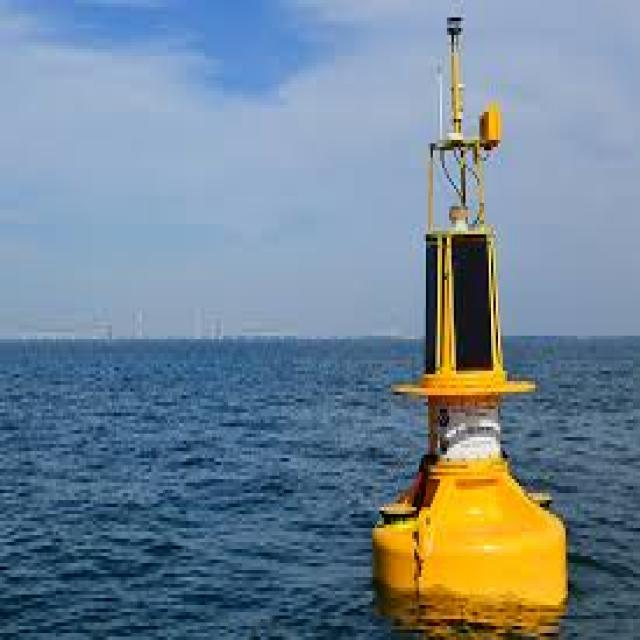buoy: (377, 5, 580, 626)
